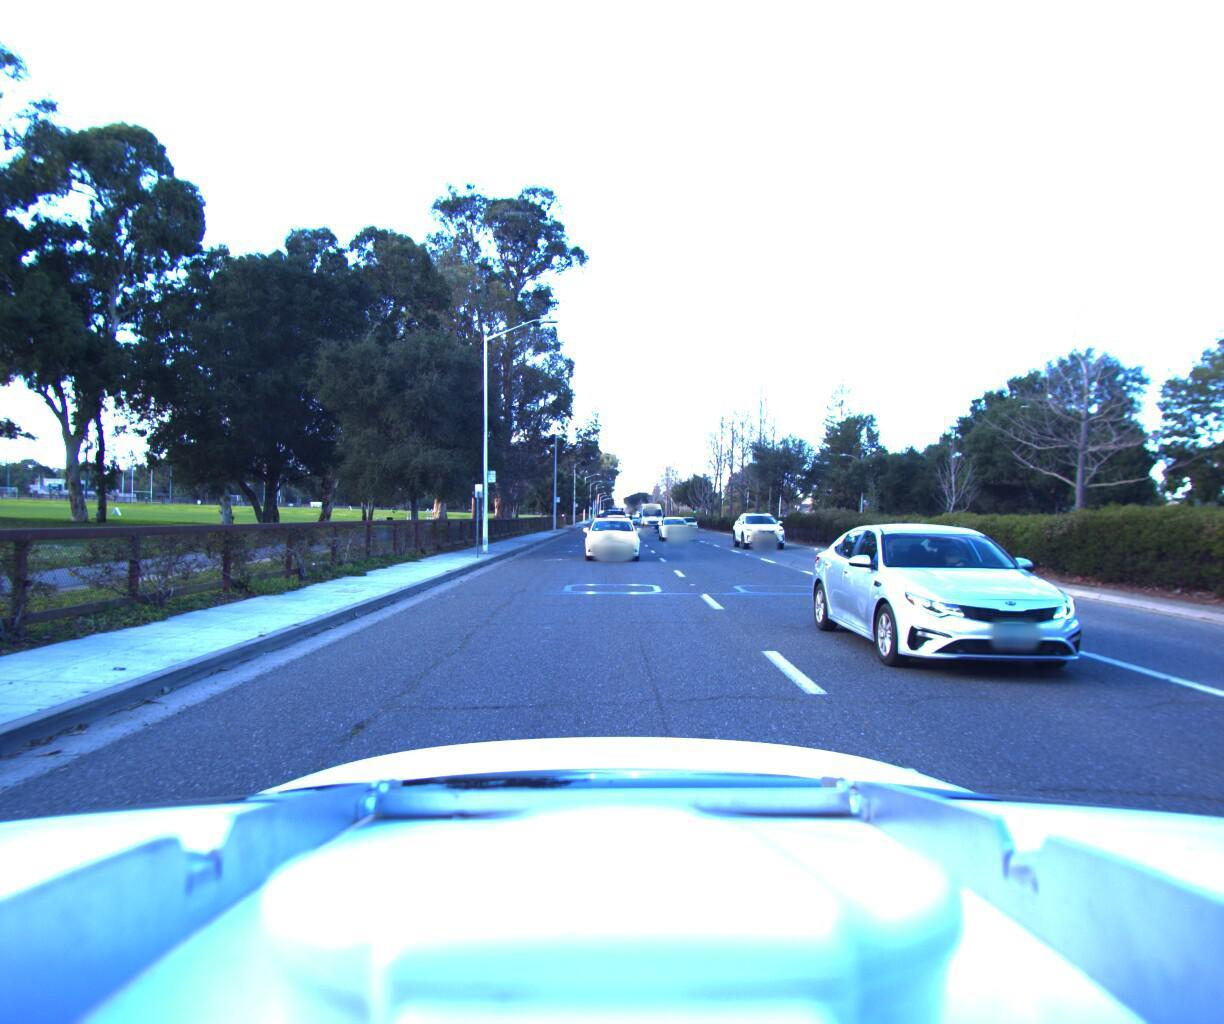car: (835, 517, 1224, 731), (583, 511, 642, 559), (733, 506, 795, 549), (658, 513, 697, 538), (599, 498, 627, 532), (639, 499, 664, 529)
